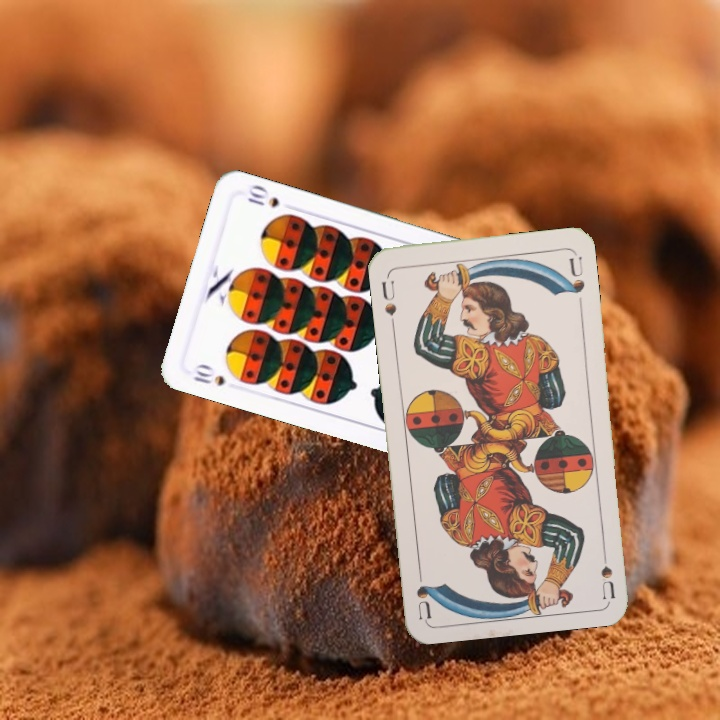S10: (189, 360, 227, 389)
SU: (597, 540, 618, 600), (377, 277, 399, 330)
